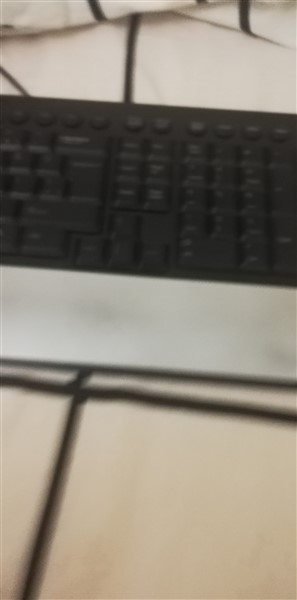klavye: (4, 86, 297, 371)
